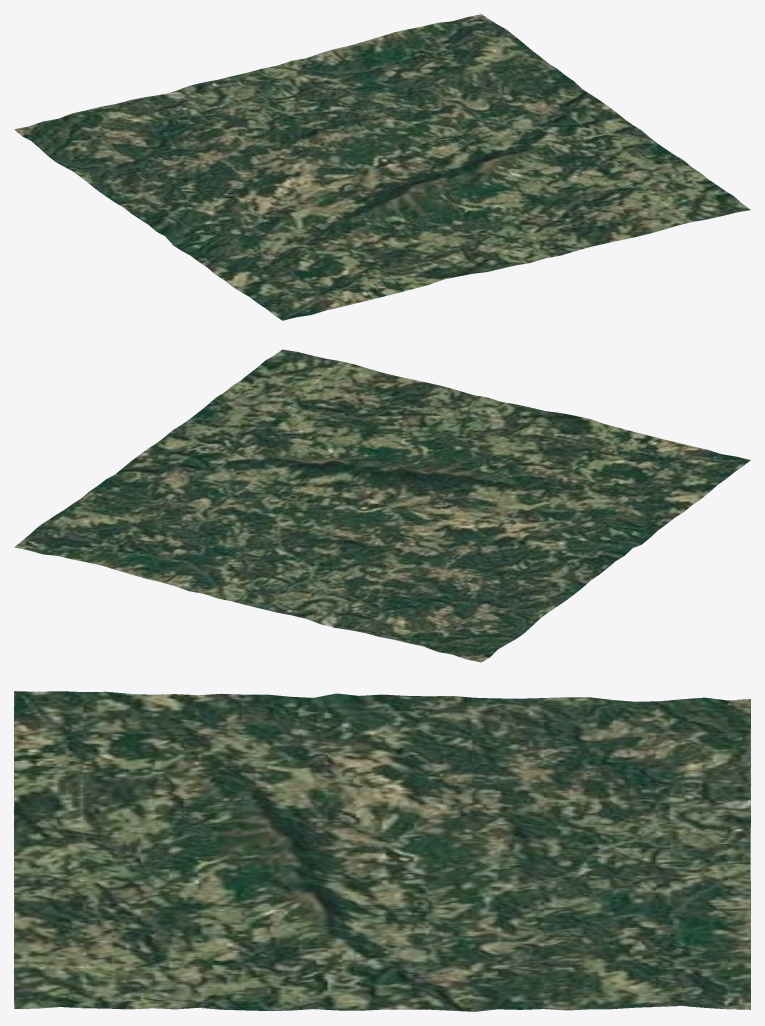
3 views of the same model, one above another, from view 1: azimuth 30°, elevation 25°; view 2: azimuth 150°, elevation 25°; view 3: azimuth 270°, elevation 25° (orthographic). The views are drawn at different scales.
Size of the model in its own units: 15673 by 420 by 15595.
1 material, 1 textured.
